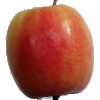apple: (6, 4, 94, 100)
